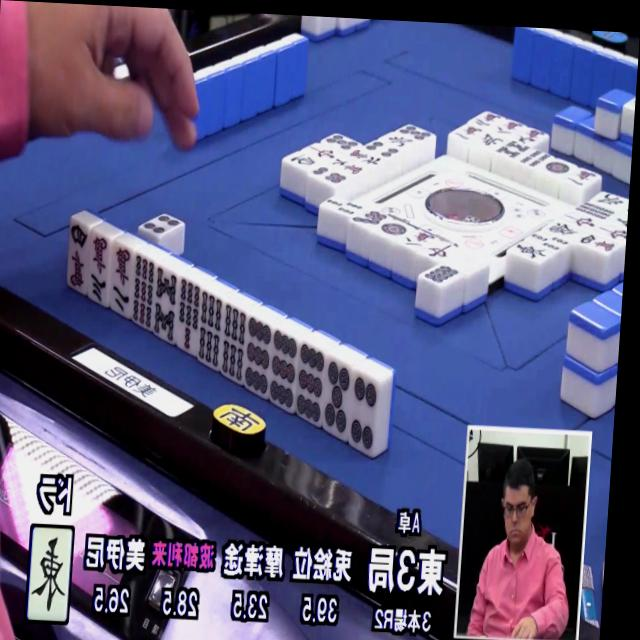east: (24, 526, 71, 619)
m2: (107, 244, 137, 318)
m3: (84, 233, 114, 309)
m4: (65, 219, 93, 293)
s6: (217, 304, 251, 385), (195, 292, 227, 372)
s7: (173, 278, 204, 355)
s8: (149, 265, 180, 344)
s9: (126, 254, 158, 332)
t4: (347, 371, 382, 455), (142, 210, 178, 239)
t5: (318, 360, 355, 441)
t9: (290, 341, 331, 426), (263, 331, 301, 411), (241, 318, 276, 398)
